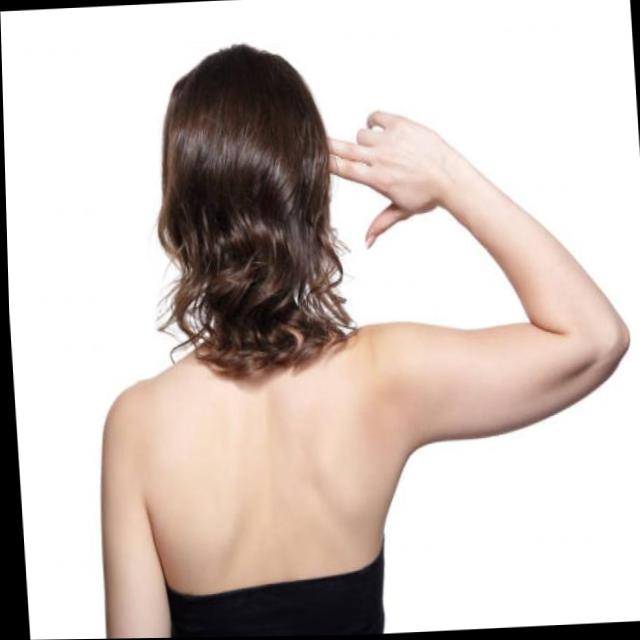no helmet: (152, 37, 348, 358)
